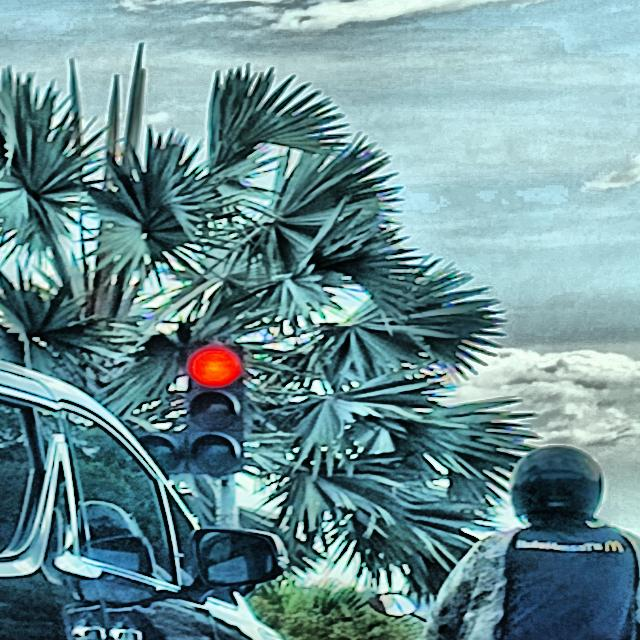red: (187, 344, 244, 475)
